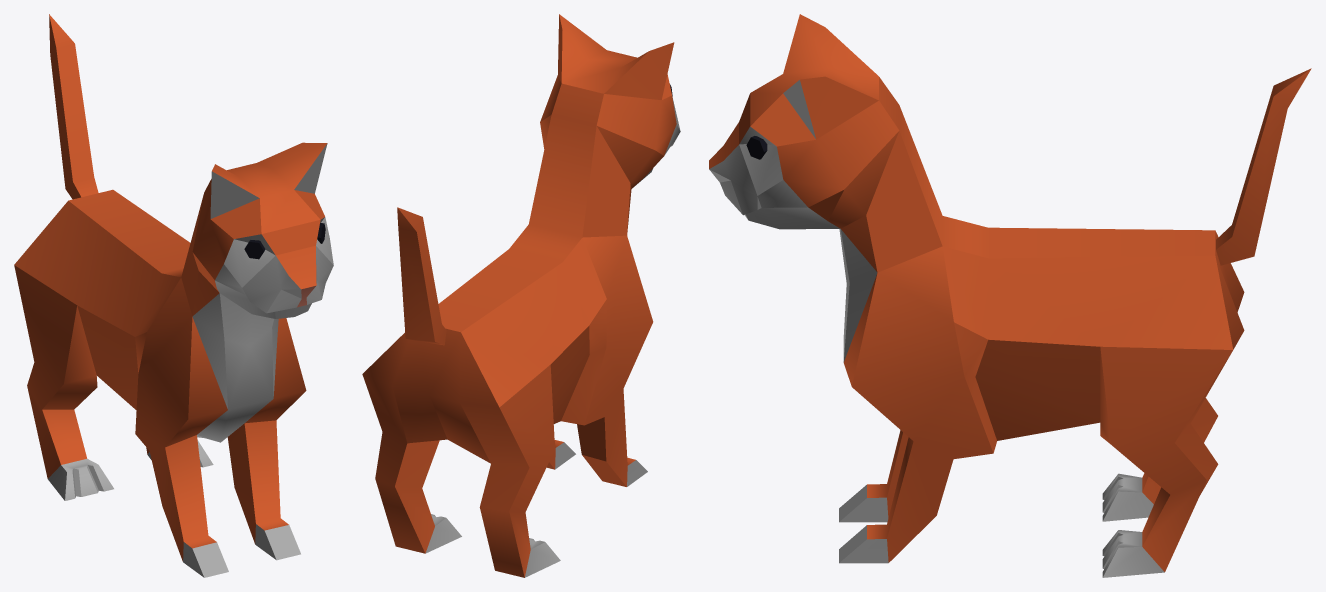
The model's file is Little_Cat.fbx.
3 renders of one model, left to right at view 1: azimuth 30°, elevation 25°; view 2: azimuth 150°, elevation 25°; view 3: azimuth 270°, elevation 25°, orthographic. The views are drawn at different scales.
Visible parts, largest first — view 1: Little_Cat; view 2: Little_Cat; view 3: Little_Cat.
Boxes of the visible parts, left/top/right/bottom form: Little_Cat: left=14, top=14, right=333, bottom=577; Little_Cat: left=362, top=14, right=680, bottom=577; Little_Cat: left=709, top=14, right=1311, bottom=577.
Size of the model in its own units: 9 by 24.36 by 27.22.
